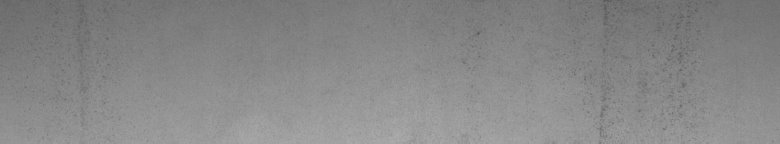ib: (597, 13, 690, 136)
